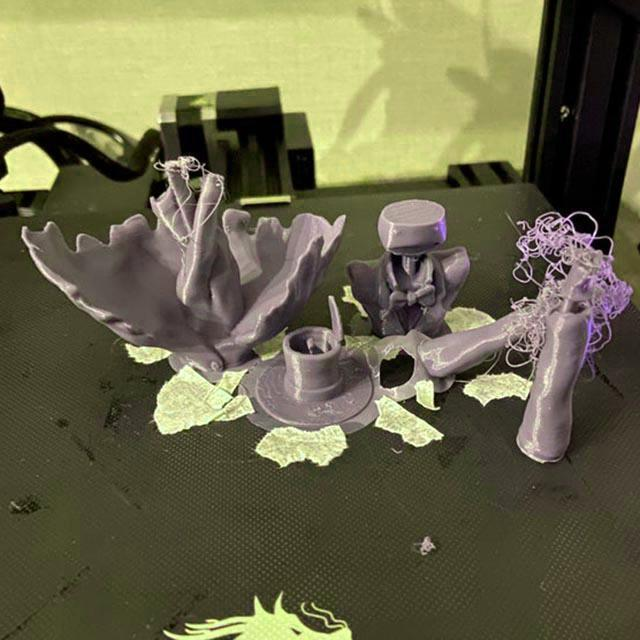Spaghetti: (498, 208, 634, 372), (148, 152, 230, 245)
